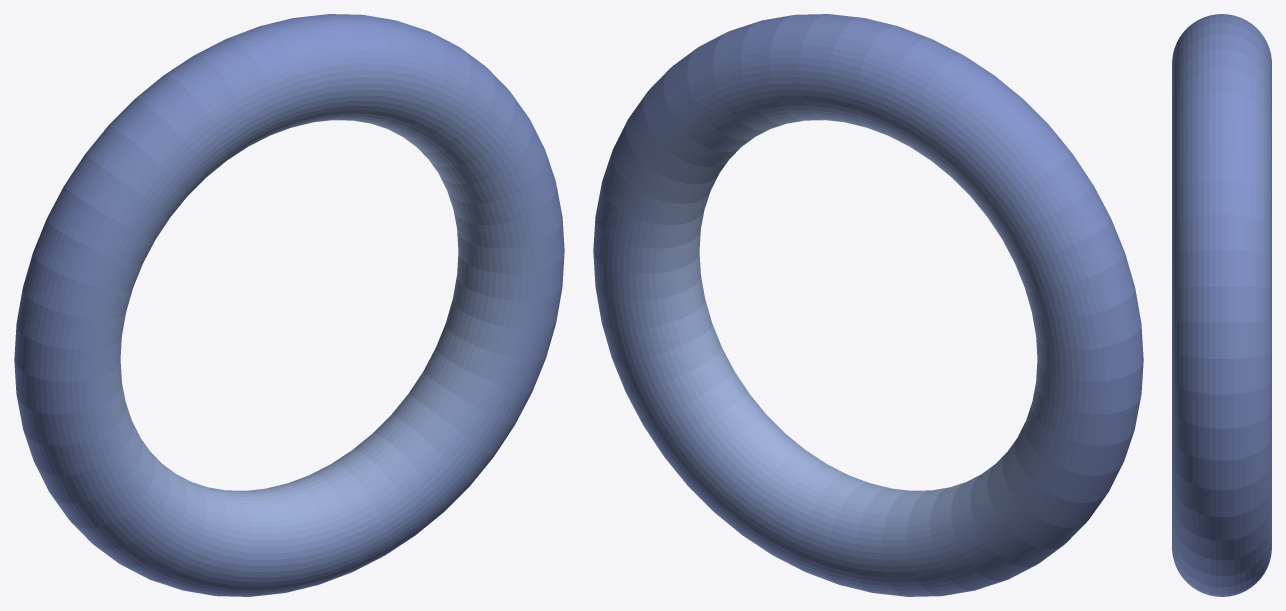
3 renders of one model, left to right at view 1: azimuth 30°, elevation 25°; view 2: azimuth 150°, elevation 25°; view 3: azimuth 270°, elevation 25°, orthographic. The views are drawn at different scales.
Parts seen in each view (by area): view 1: world; view 2: world; view 3: world.
Boxes of the visible parts, x1,y1,x2,y2 form: world: (14,14,564,596); world: (593,14,1143,596); world: (1172,14,1271,596).
Bounding box in the file's own units: 22.53 × 22.49 × 3.86.
